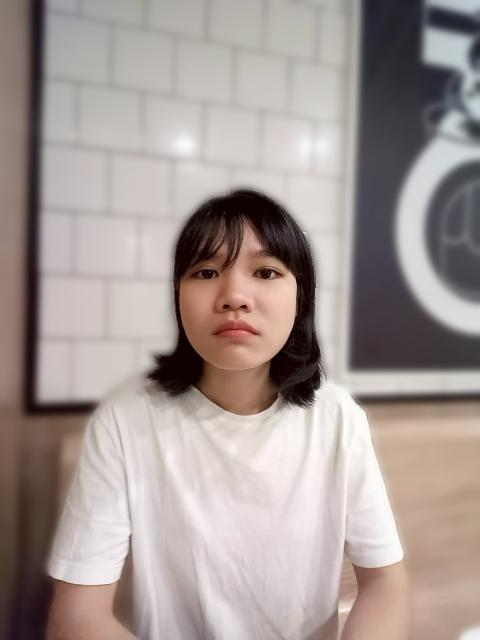fokus: (172, 187, 315, 370)
